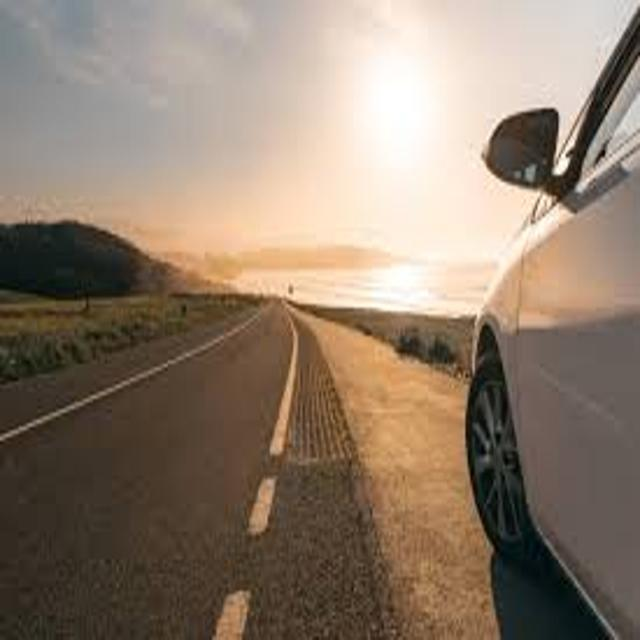car: (465, 1, 640, 640)
